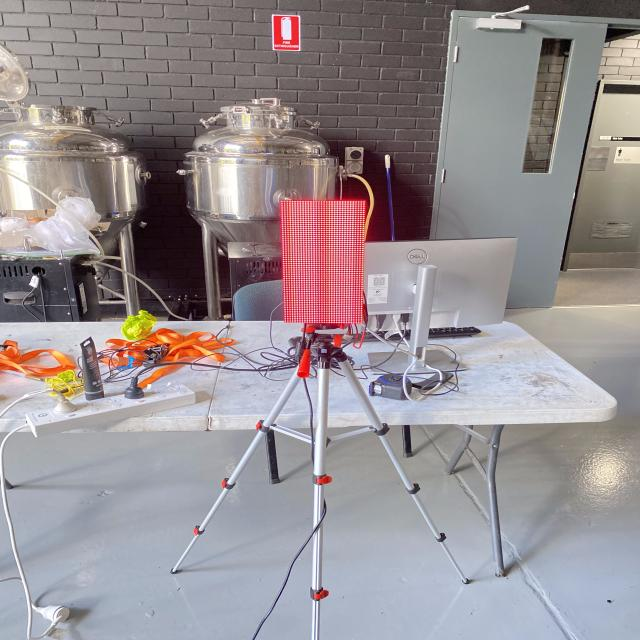matrix: (276, 199, 373, 330)
